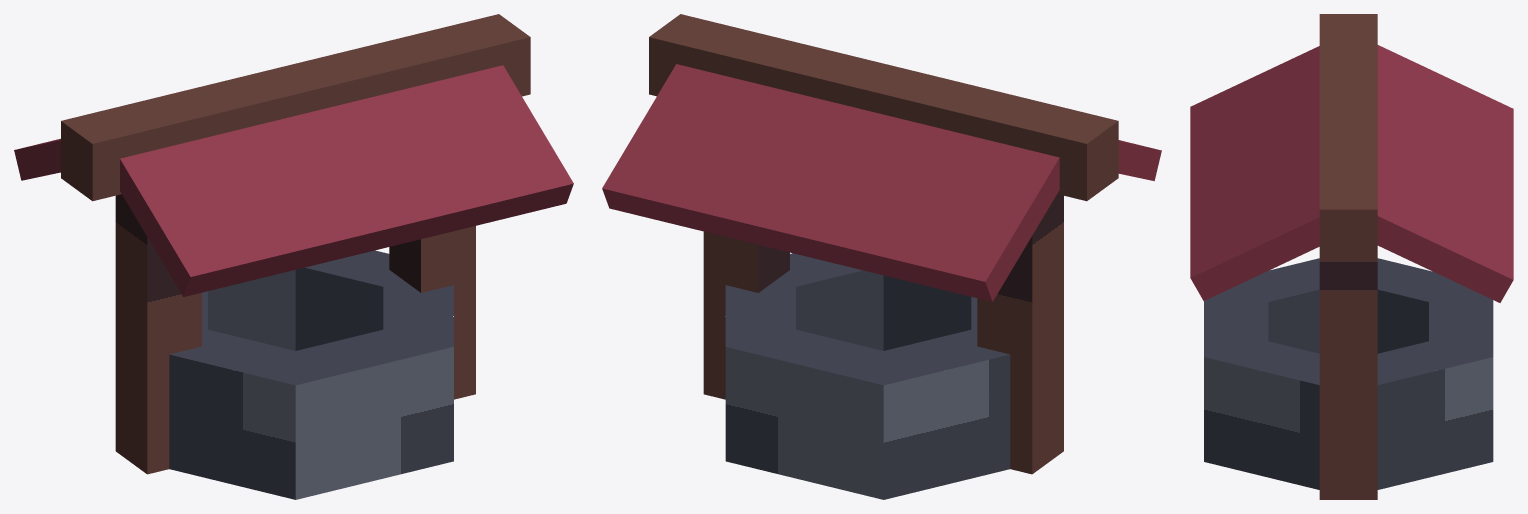
File: well.gltf
The picture shows the model from 3 angles, left to right: view 1: azimuth 30°, elevation 25°; view 2: azimuth 150°, elevation 25°; view 3: azimuth 270°, elevation 25°; orthographic projection. The views are drawn at different scales.
Parts seen in each view (by area): view 1: cube (×5), Base; view 2: cube (×5), Base; view 3: cube (×4), Base.
Part boxes in pixels (<box>): cube (×5): <box>14,14,573,474</box>; Base: <box>169,250,453,499</box>; cube (×5): <box>602,14,1161,474</box>; Base: <box>725,253,1010,499</box>; cube (×4): <box>1190,14,1513,499</box>; Base: <box>1204,258,1493,489</box>.
Bounding box in the file's own units: 0.5 × 0.375 × 0.349.
Materials: 1 (1 with a texture image).
